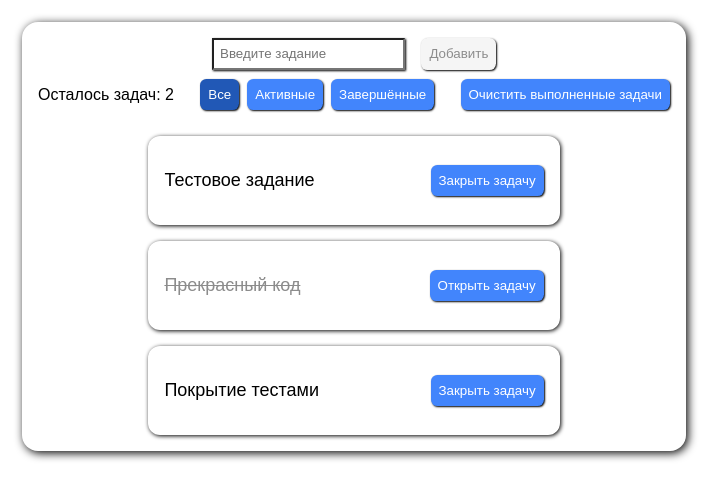
Test: Tasks test › Testing removing of all completed tasks
Expected: the text "Прекрасный код" is shown, [164, 275, 300, 296]
Click the button "Очистить выполненные задачи". click: (565, 95)
box: [460, 79, 670, 110]
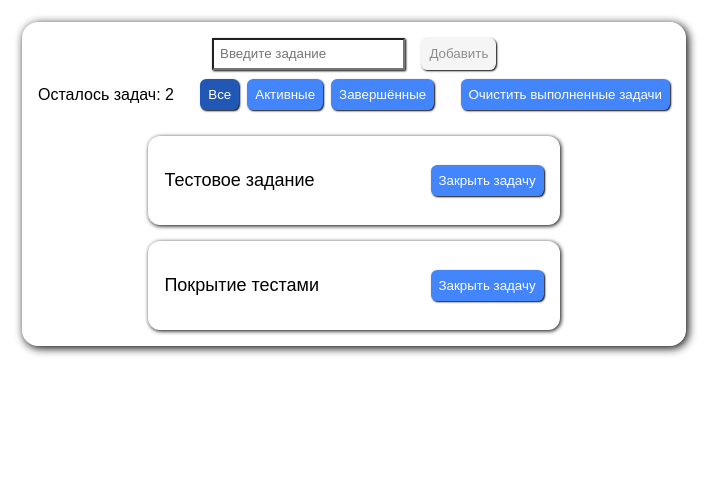
Expected: the text "Прекрасный код" is gone
